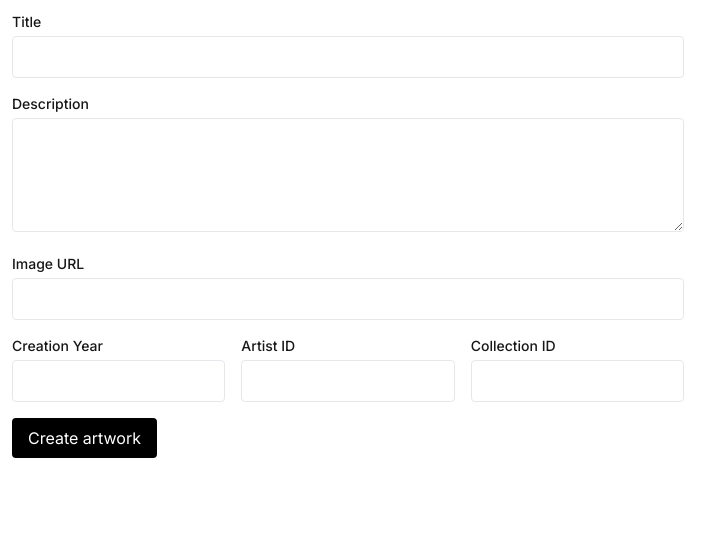
Scenario: ArtworkCreateForm › clears the field error when the user modifies the field
// Submit empty to trigger errors
Click the button "Create artwork": [84, 438] box [12, 418, 157, 458]
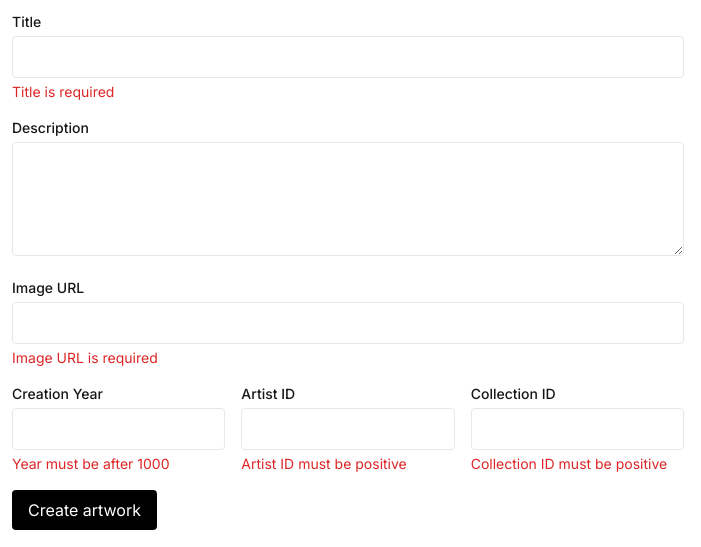
Expected: the text "Title is required" is shown, [12, 83, 114, 100]
// Type in the title field
In the field labelled "Title": [348, 57] box [12, 36, 684, 78], type "Something"
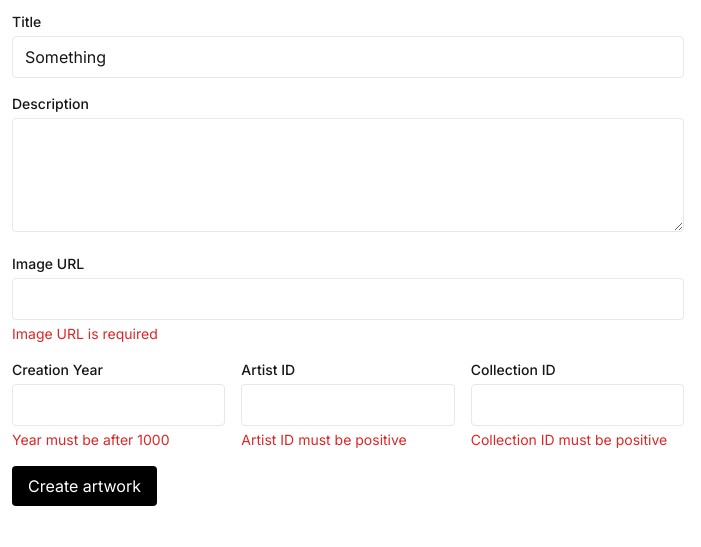
Expected: the text "Title is required" is gone
